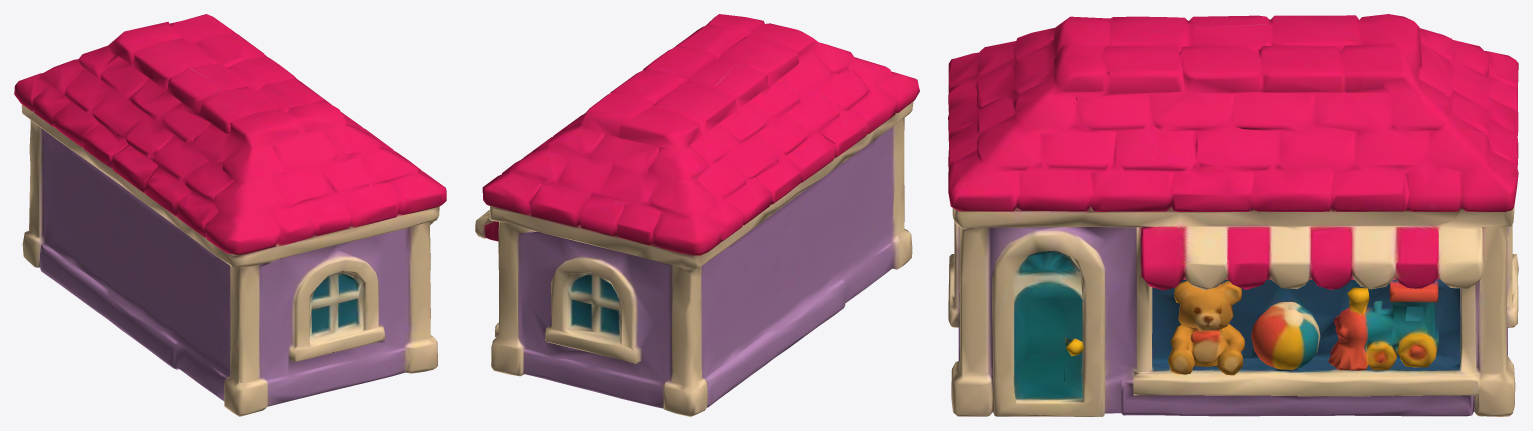
The model's file is toy-shop.glb.
The picture shows the model from 3 angles, left to right: view 1: azimuth 30°, elevation 25°; view 2: azimuth 150°, elevation 25°; view 3: azimuth 270°, elevation 25°; orthographic projection. The views are drawn at different scales.
Parts seen in each view (by area): view 1: tripo_node_4997ff6b-73b6-432a-adba-641ca05608e2; view 2: tripo_node_4997ff6b-73b6-432a-adba-641ca05608e2; view 3: tripo_node_4997ff6b-73b6-432a-adba-641ca05608e2.
Part boxes in pixels (x1,y1,x2,y2): tripo_node_4997ff6b-73b6-432a-adba-641ca05608e2: (14, 14, 446, 416); tripo_node_4997ff6b-73b6-432a-adba-641ca05608e2: (475, 14, 919, 416); tripo_node_4997ff6b-73b6-432a-adba-641ca05608e2: (948, 14, 1518, 416).
Bounding box in the file's own units: 0.6229 × 0.6096 × 1.
1 material, 1 textured.
